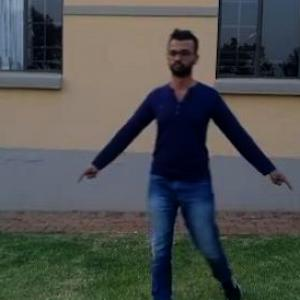land: (101, 38, 277, 299)
